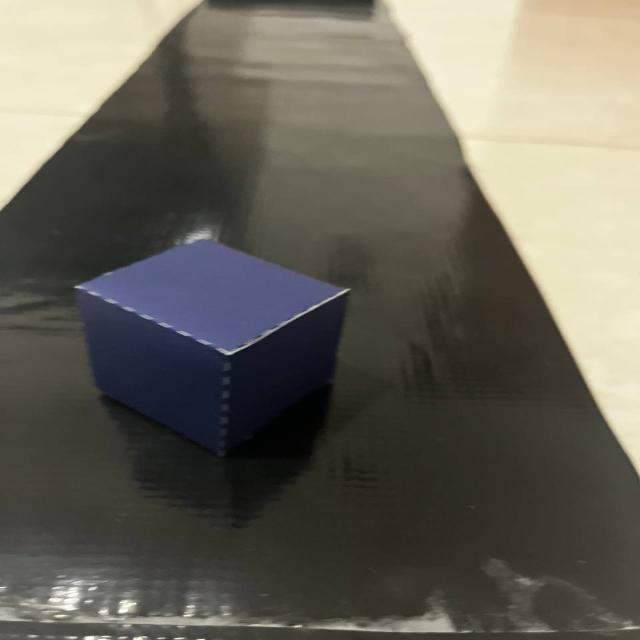Azul: (65, 221, 361, 474)
